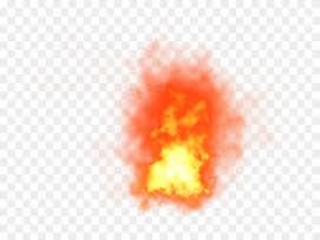fire: (125, 71, 230, 199)
